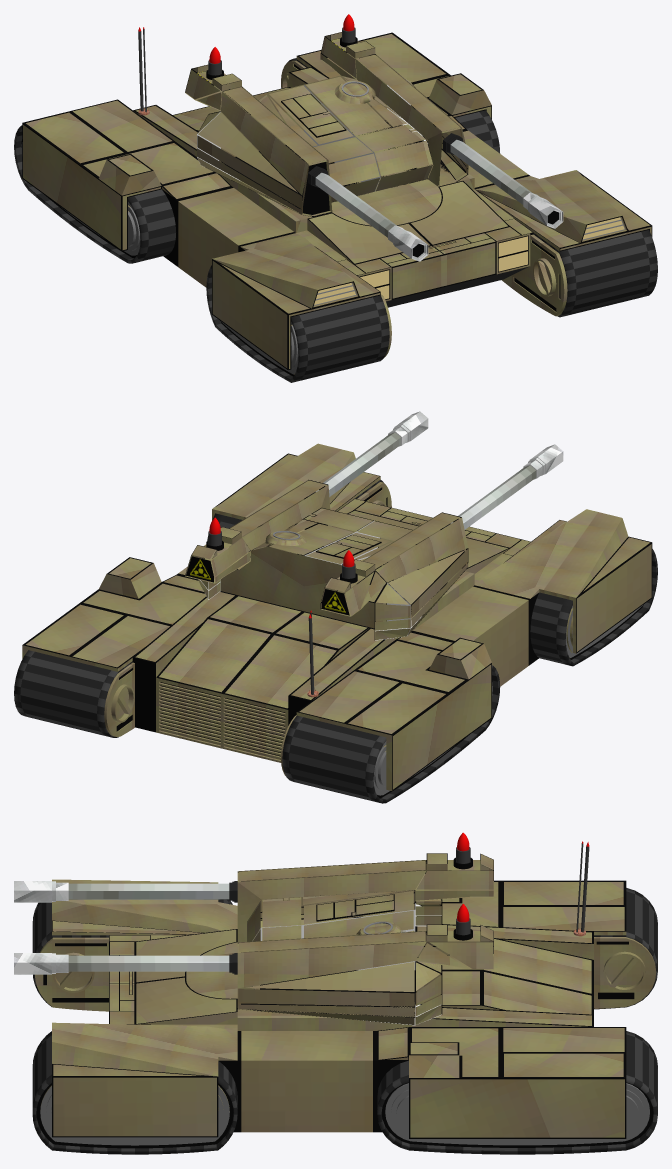
File: tank.dae
The picture shows the model from 3 angles, top to bottom: view 1: azimuth 30°, elevation 25°; view 2: azimuth 150°, elevation 25°; view 3: azimuth 270°, elevation 25°; orthographic projection. The views are drawn at different scales.
Parts seen in each view (by area): view 1: Component_1_2, Component_1_1, Component_4, Component_2_2, Component_4_1_2, Component_3_2, Component_3_1, Component_2_1, Group2, Component_5_1, Component_6; view 2: Component_1_2, Component_1_1, Component_2_2, Component_4, Component_4_1_2, Component_3_2, Component_2_1, Component_3_1, Group2, Component_5_1; view 3: Component_1_1, Component_4_1_2, Component_2_1, Component_1_2, Component_3_1, Component_4, Component_2_2, Component_3_2, Group2, Component_6.
Boxes of the visible parts, x1=… form: Component_1_2: x1=14, y1=105, x2=443, y2=382; Component_1_1: x1=253, y1=58, x2=657, y2=317; Component_4: x1=185, y1=47, x2=428, y2=261; Component_2_2: x1=22, y1=99, x2=231, y2=251; Component_4_1_2: x1=304, y1=14, x2=563, y2=228; Component_3_2: x1=212, y1=233, x2=380, y2=369; Component_3_1: x1=475, y1=170, x2=652, y2=251; Component_2_1: x1=296, y1=32, x2=491, y2=129; Group2: x1=281, y1=93, x2=346, y2=137; Component_5_1: x1=334, y1=80, x2=375, y2=107; Component_6: x1=138, y1=27, x2=149, y2=115; Component_1_2: x1=222, y1=526, x2=657, y2=803; Component_1_1: x1=14, y1=479, x2=432, y2=748; Component_2_2: x1=296, y1=632, x2=491, y2=791; Component_4: x1=304, y1=444, x2=563, y2=640; Component_4_1_2: x1=185, y1=411, x2=428, y2=611; Component_3_2: x1=475, y1=509, x2=652, y2=653; Component_2_1: x1=22, y1=557, x2=205, y2=671; Component_3_1: x1=212, y1=443, x2=380, y2=520; Group2: x1=316, y1=534, x2=381, y2=558; Component_5_1: x1=265, y1=530, x2=306, y2=553; Component_1_1: x1=32, y1=970, x2=657, y2=1154; Component_4_1_2: x1=14, y1=904, x2=493, y2=1025; Component_2_1: x1=377, y1=1027, x2=626, y2=1138; Component_1_2: x1=32, y1=888, x2=657, y2=1011; Component_3_1: x1=52, y1=1022, x2=237, y2=1137; Component_4: x1=14, y1=832, x2=493, y2=970; Component_2_2: x1=442, y1=880, x2=626, y2=935; Component_3_2: x1=52, y1=879, x2=237, y2=935; Group2: x1=316, y1=894, x2=394, y2=921; Component_6: x1=573, y1=841, x2=589, y2=936.
Bounding box in the file's own units: 283 × 389 × 128.
Materials: 16 (8 with a texture image).
